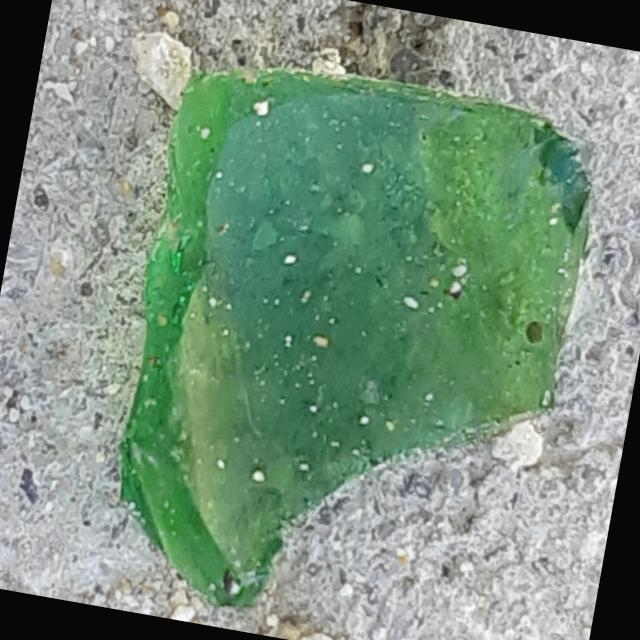Dry: (180, 80, 587, 433), (147, 273, 290, 595), (280, 404, 377, 508), (118, 377, 152, 498)
